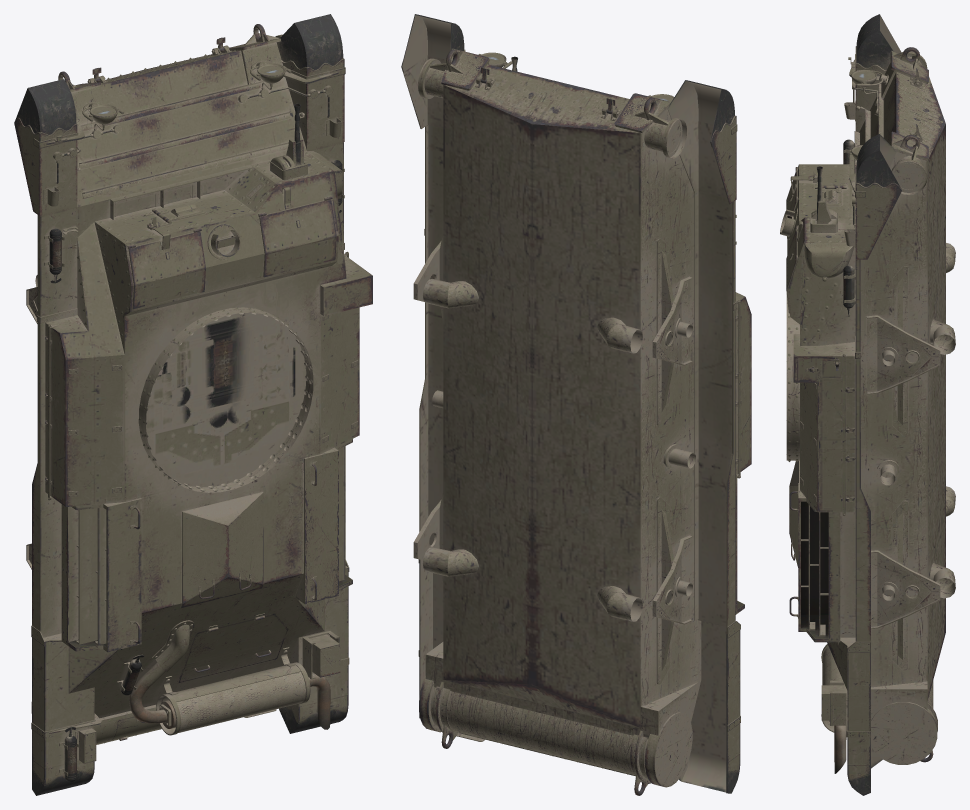
Rendered from Hull.glb.
3 views of the same model, side by side, from view 1: azimuth 30°, elevation 25°; view 2: azimuth 150°, elevation 25°; view 3: azimuth 270°, elevation 25° (orthographic). The views are drawn at different scales.
Parts seen in each view (by area): view 1: set_0_group_0; view 2: set_0_group_0; view 3: set_0_group_0.
Boxes of the visible parts, x1,y1,x2,y2 form: set_0_group_0: [14, 14, 372, 795]; set_0_group_0: [401, 14, 751, 795]; set_0_group_0: [780, 14, 955, 795].
Size of the model in its own units: 2.56 by 5.59 by 1.38.
1 material, 1 textured.
